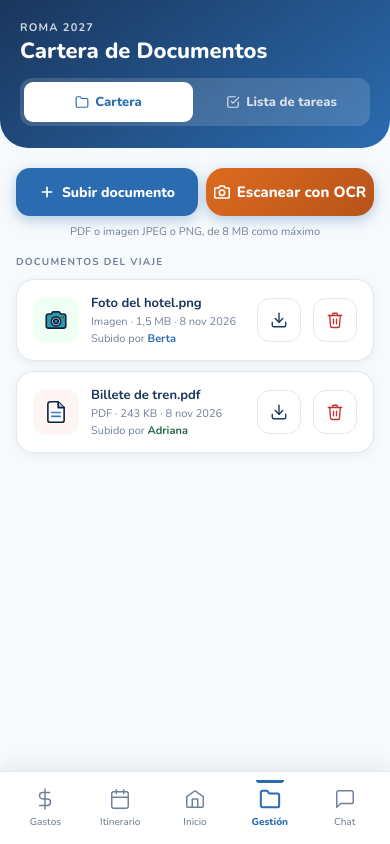
Test: CarteraDocumentos: pestañas › al cambiar a «Lista de tareas» cambia el título y se muestran las tareas en lugar de los documentos
The image size is (390, 844).
Expected: the text "Documentos del viaje" is shown, [16, 255, 164, 269]
Click the tab "Lista de tareas".
click(282, 102)  # box [197, 82, 366, 122]
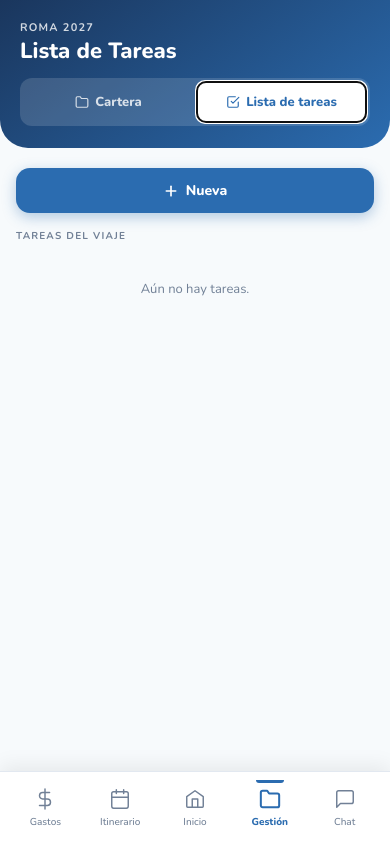
Now the text "Aún no hay tareas." is shown, box [141, 280, 249, 298]
Now the text "Lista de Tareas" is shown, box [20, 36, 177, 66]
Now the text "Documentos del viaje" is gone
